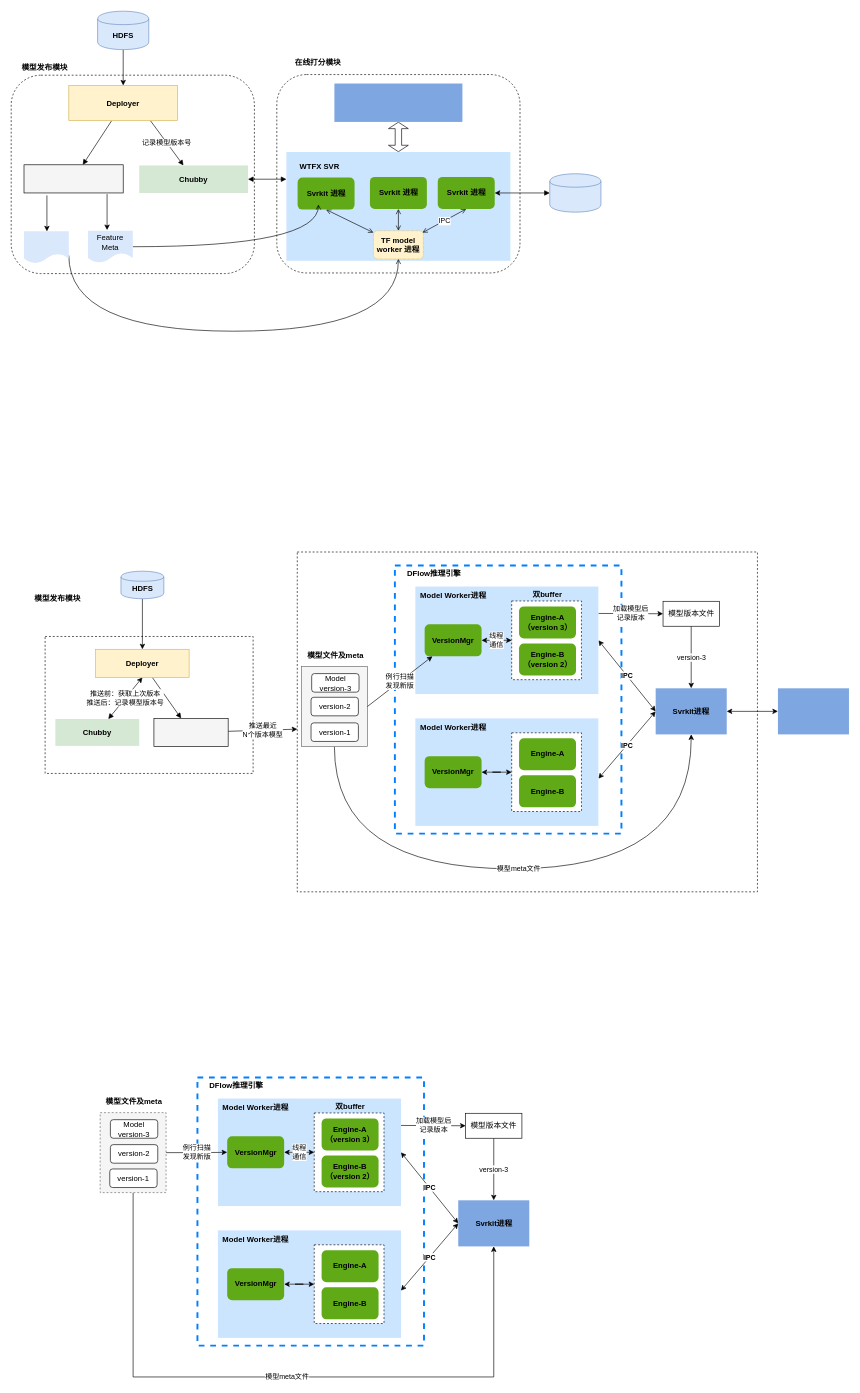
Image size: 860x1393. Some labels were removed from this diagram. Here are the shapes that lost their labels. From the top down, the centre of each, then its label:
(x=398, y=102): WTFX Broker
(x=73, y=178): 微信运维文件推送服务
(x=575, y=192): Feature KV 特征
(x=46, y=247): model.pb
(x=813, y=711): Client
(x=190, y=732): 微信运维文分发服务
